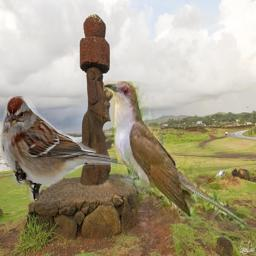Cuckoo: (103, 81, 254, 231)
Sparrow: (0, 96, 130, 200)
